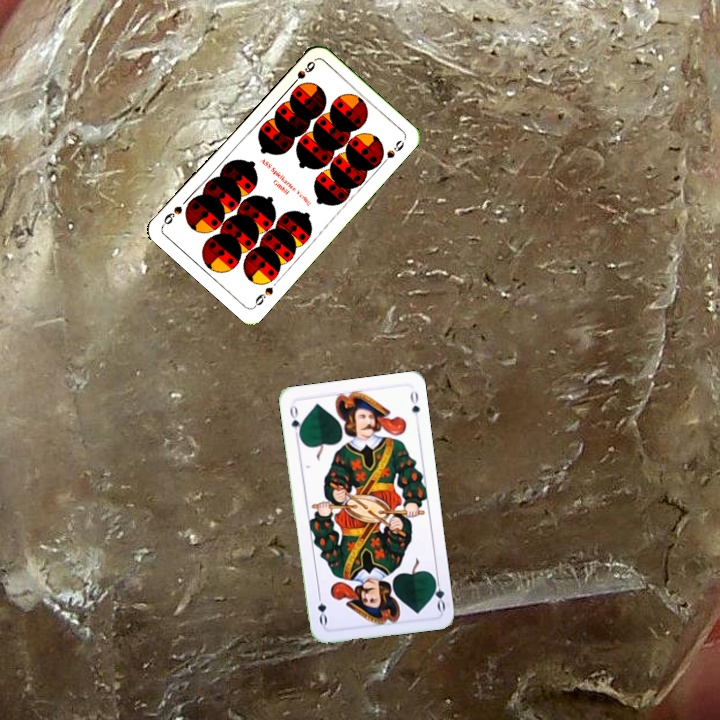GO: (428, 572, 448, 613), (286, 401, 304, 441)
S9: (286, 57, 318, 90), (250, 283, 276, 310)
